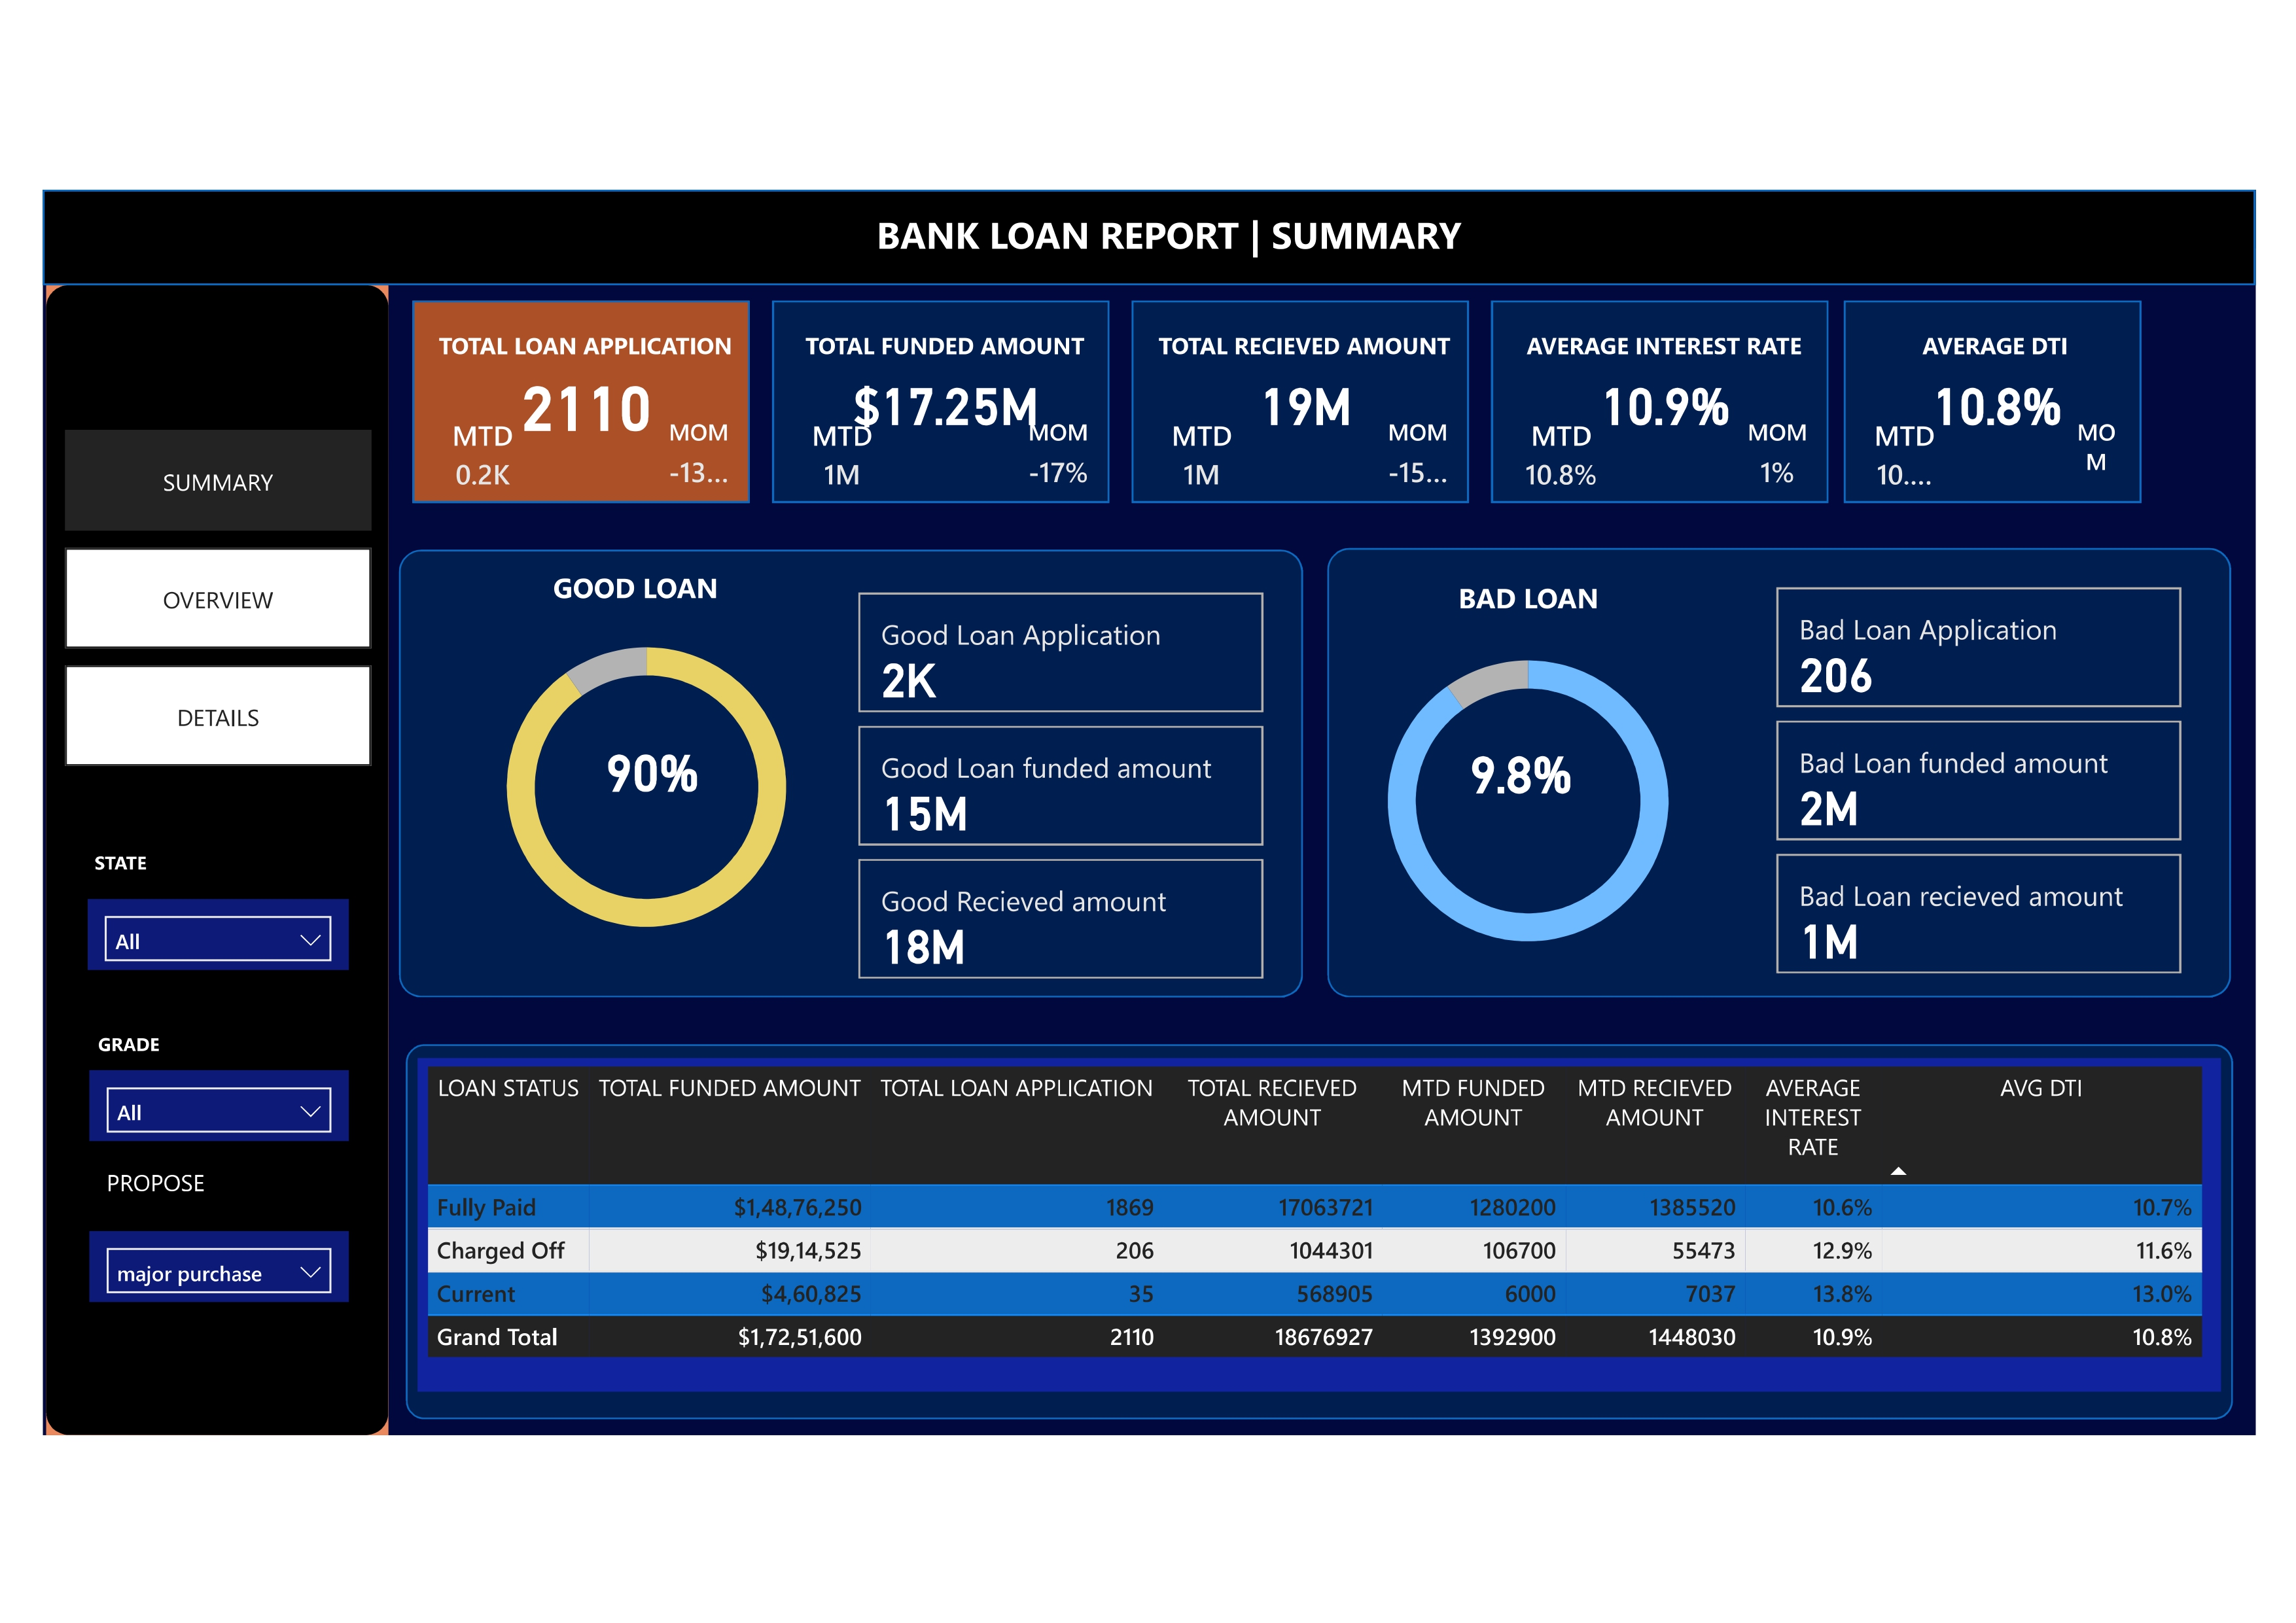

The page's visual inventory and layout, read from the dashboard file:
{"tool":"powerbi","page":{"name":"SUMMARY","canvas":[1280,720],"ordinal":0},"visuals":[{"type":"shape","box":[2.4,55.5,197.9,664.7],"z":0},{"type":"shape","box":[214.4,64,195,117],"z":0,"group":"g1"},{"type":"shape","box":[422.4,64,195,117],"z":0,"group":"g2"},{"type":"shape","box":[630.4,64,195,117],"z":0,"group":"g3"},{"type":"shape","box":[838.4,64,195,117],"z":0,"group":"g4"},{"type":"shape","box":[1041.9,64,172.1,117],"z":0,"group":"g5"},{"type":"shape","box":[206.3,207.5,522.4,259.4],"z":1000},{"type":"group","id":"g1","title":"Group 1","box":[176,64,272,112],"z":2000},{"type":"group","id":"g2","title":"Group 1","box":[384,64,272,112],"z":3000},{"type":"textbox","box":[176,76.3,275.8,31.6],"z":3000,"group":"g1"},{"type":"textbox","box":[384,76.3,275.8,31.6],"z":3000,"group":"g2"},{"type":"textbox","box":[592,76.3,275.8,31.6],"z":3000,"group":"g3"},{"type":"textbox","box":[800,76.3,275.8,31.6],"z":3000,"group":"g4"},{"type":"textbox","box":[1008,76.3,243.4,31.6],"z":3000,"group":"g5"},{"type":"card","fields":{"Values":["financial_loan.Total Loan application"]},"box":[226.8,91.4,175.6,64.5],"z":4000,"group":"g1"},{"type":"card","fields":{"Values":["financial_loan.TOTAL FUNDED AMOUNT"]},"box":[434.8,91.4,175.6,64.5],"z":4000,"group":"g2"},{"type":"card","fields":{"Values":["financial_loan.Total received amount"]},"box":[642.8,91.4,175.6,64.5],"z":4000,"group":"g3"},{"type":"card","fields":{"Values":["financial_loan.Average interest rate"]},"box":[850.8,91.4,175.6,64.5],"z":4000,"group":"g4"},{"type":"card","fields":{"Values":["financial_loan.AVG DTI"]},"box":[1052.8,91.4,155,64.5],"z":4000,"group":"g5"},{"type":"card","fields":{"Values":["financial_loan.GOOD LOAN PERCENTAGE"]},"box":[307.4,317,90.6,37],"z":4000},{"type":"group","id":"g3","title":"Group 1","box":[592,64,272,112],"z":5000},{"type":"card","title":"MTD","fields":{"Values":["financial_loan.MTD LOAN APPLICATIONS"]},"box":[226.8,131.2,54.9,49.4],"z":5000,"group":"g1"},{"type":"card","title":"MTD","fields":{"Values":["financial_loan.MTD FUNDED AMOUNT"]},"box":[434.8,131.2,54.9,49.4],"z":5000,"group":"g2"},{"type":"card","title":"MTD","fields":{"Values":["financial_loan.MTD total recived amount"]},"box":[642.8,131.2,54.9,49.4],"z":5000,"group":"g3"},{"type":"card","title":"MTD","fields":{"Values":["financial_loan.MTD Average interest rate"]},"box":[850.8,131.2,54.9,49.4],"z":5000,"group":"g4"},{"type":"card","title":"MTD","fields":{"Values":["financial_loan.MTD Average DTI"]},"box":[1052.8,131.2,48.4,49.4],"z":5000,"group":"g5"},{"type":"group","id":"g4","title":"Group 1","box":[800,64,272,112],"z":6000},{"type":"card","title":"MOM","fields":{"Values":["financial_loan.MOM Loan application"]},"box":[357.1,131.2,45.3,49.4],"z":6000,"group":"g1"},{"type":"card","title":"MOM","fields":{"Values":["financial_loan.MOM FUNDED AMOUNT"]},"box":[565.1,131.2,45.3,49.4],"z":6000,"group":"g2"},{"type":"card","title":"MOM","fields":{"Values":["financial_loan.MOM RECIEVED AMOUNT"]},"box":[773.1,131.2,45.3,49.4],"z":6000,"group":"g3"},{"type":"card","title":"MOM","fields":{"Values":["financial_loan.MOM AVERAGE INTEREST RATE"]},"box":[981.1,131.2,45.3,49.4],"z":6000,"group":"g4"},{"type":"card","title":"MOM","fields":{"Values":["financial_loan.MOM AVG DTI"]},"box":[1167.8,131.2,40,49.4],"z":6000,"group":"g5"},{"type":"group","id":"g5","title":"Group 1","box":[1008,64,240,112],"z":7000},{"type":"shape","box":[742.7,207.3,523.2,259.8],"z":8000},{"type":"donutChart","fields":{"Category":["financial_loan.Good vs Bad Loan"],"Y":["financial_loan.Total Loan application"]},"box":[209.9,238.8,278.6,212.7],"z":9000},{"type":"donutChart","fields":{"Category":["financial_loan.Good vs Bad Loan"],"Y":["financial_loan.Total Loan application"]},"box":[720.4,247,278.6,212.7],"z":10000},{"type":"card","fields":{"Values":["financial_loan.BAD LOAN PERCENTAGE"]},"box":[809.6,318.4,90.6,37],"z":11000},{"type":"cardVisual","fields":{"Data":["financial_loan.Good Loan Application","financial_loan.Good Loan funded amount","financial_loan.Good Recieved amount"]},"box":[466.6,227.8,244.3,234.6],"z":12000},{"type":"shape","box":[0,0,1280,55.5],"z":13000},{"type":"cardVisual","fields":{"Data":["financial_loan.Bad Loan Application","financial_loan.Bad Loan funded amount","financial_loan.Bad Loan recieved amount"]},"box":[997.6,225,244.3,234.6],"z":14000},{"type":"shape","box":[209.9,494,1056.6,216.8],"z":15000},{"type":"textbox","box":[233.3,214.1,219.6,37],"z":16000},{"type":"textbox","box":[764.3,219.6,190.7,38.4],"z":17000},{"type":"tableEx","fields":{"Values":["financial_loan.loan_status","financial_loan.TOTAL FUNDED AMOUNT","financial_loan.Total Loan application","financial_loan.Total received amount","financial_loan.MTD FUNDED AMOUNT","financial_loan.MTD total recived amount","financial_loan.Average interest rate","financial_loan.AVG DTI"]},"box":[217.2,501.9,1042.4,193],"z":18000},{"type":"textbox","box":[382.4,6,538.1,42.2],"z":19000},{"type":"slicer","fields":{"Values":["financial_loan.address_state"]},"box":[25.6,409.8,151.2,41.5],"z":20000},{"type":"textbox","box":[25.3,374,62.7,27.7],"z":21000},{"type":"slicer","fields":{"Values":["financial_loan.grade"]},"box":[26.5,509.1,150.8,41],"z":22000},{"type":"slicer","fields":{"Values":["financial_loan.purpose"]},"box":[26.5,602,150.8,41],"z":23000},{"type":"textbox","box":[26.5,479,61.5,27.7],"z":24000},{"type":"pageNavigator","box":[13.3,138.7,177.3,196.6],"z":31000},{"type":"textbox","box":[32,560,80,32],"z":31002}]}

Visuals, with their boxes on the page's 1280x720 design canvas (x1, y1, x2, y2). These are canvas units, not pixel positions in the 2296x1623 screenshot, which may show the page scaled, cropped or inside an application window:
shape: (2,56,200,720)
shape: (214,64,409,181)
shape: (422,64,617,181)
shape: (630,64,825,181)
shape: (838,64,1033,181)
shape: (1042,64,1214,181)
shape: (206,208,729,467)
"Group 1" group: (176,64,448,176)
"Group 1" group: (384,64,656,176)
textbox: (176,76,452,108)
textbox: (384,76,660,108)
textbox: (592,76,868,108)
textbox: (800,76,1076,108)
textbox: (1008,76,1251,108)
card - financial_loan.Total Loan application: (227,91,402,156)
card - financial_loan.TOTAL FUNDED AMOUNT: (435,91,610,156)
card - financial_loan.Total received amount: (643,91,818,156)
card - financial_loan.Average interest rate: (851,91,1026,156)
card - financial_loan.AVG DTI: (1053,91,1208,156)
card - financial_loan.GOOD LOAN PERCENTAGE: (307,317,398,354)
"Group 1" group: (592,64,864,176)
"MTD" card: (227,131,282,181)
"MTD" card: (435,131,490,181)
"MTD" card: (643,131,698,181)
"MTD" card: (851,131,906,181)
"MTD" card: (1053,131,1101,181)
"Group 1" group: (800,64,1072,176)
"MOM" card: (357,131,402,181)
"MOM" card: (565,131,610,181)
"MOM" card: (773,131,818,181)
"MOM" card: (981,131,1026,181)
"MOM" card: (1168,131,1208,181)
"Group 1" group: (1008,64,1248,176)
shape: (743,207,1266,467)
donutChart - financial_loan.Good vs Bad Loan x financial_loan.Total Loan application: (210,239,488,452)
donutChart - financial_loan.Good vs Bad Loan x financial_loan.Total Loan application: (720,247,999,460)
card - financial_loan.BAD LOAN PERCENTAGE: (810,318,900,355)
cardVisual - financial_loan.Good Loan Application x financial_loan.Good Loan funded amount: (467,228,711,462)
shape: (0,0,1280,56)
cardVisual - financial_loan.Bad Loan Application x financial_loan.Bad Loan funded amount: (998,225,1242,460)
shape: (210,494,1266,711)
textbox: (233,214,453,251)
textbox: (764,220,955,258)
tableEx - financial_loan.loan_status x financial_loan.TOTAL FUNDED AMOUNT: (217,502,1260,695)
textbox: (382,6,920,48)
slicer - financial_loan.address_state: (26,410,177,451)
textbox: (25,374,88,402)
slicer - financial_loan.grade: (26,509,177,550)
slicer - financial_loan.purpose: (26,602,177,643)
textbox: (26,479,88,507)
pageNavigator: (13,139,191,335)
textbox: (32,560,112,592)
